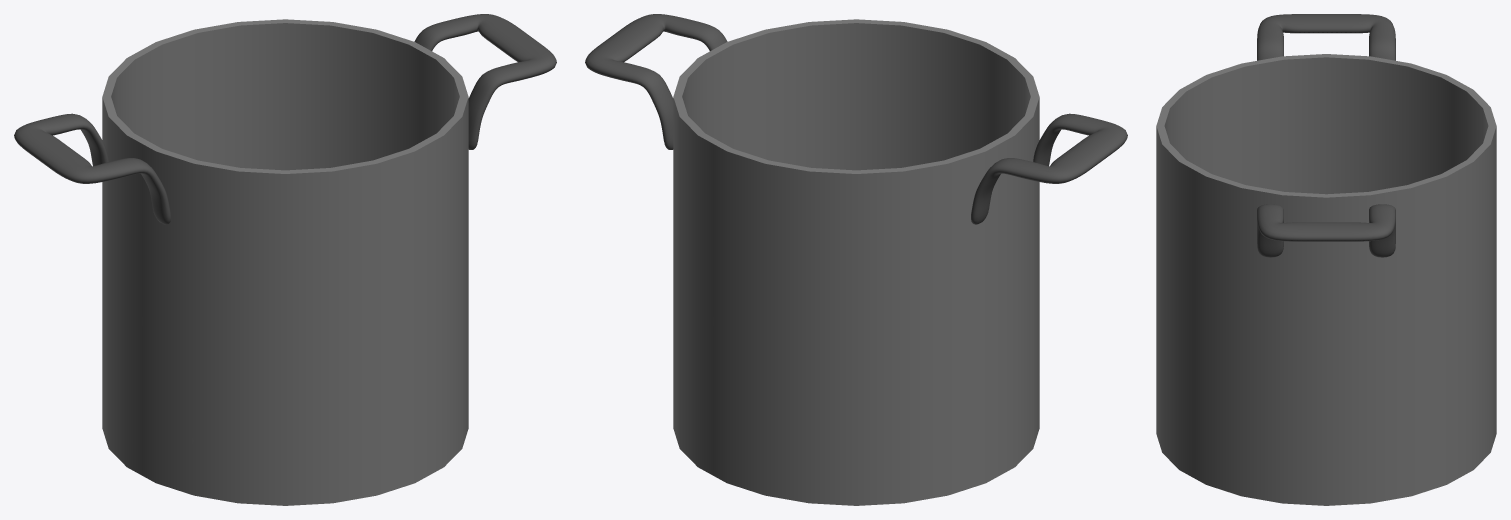
The model's file is pot.fbx.
3 views of the same model, side by side, from view 1: azimuth 30°, elevation 25°; view 2: azimuth 150°, elevation 25°; view 3: azimuth 270°, elevation 25° (orthographic). The views are drawn at different scales.
Parts seen in each view (by area): view 1: Cylinder; view 2: Cylinder; view 3: Cylinder.
Part boxes in pixels (left/top/right/bottom): Cylinder: left=14, top=14, right=556, bottom=505; Cylinder: left=585, top=14, right=1127, bottom=505; Cylinder: left=1156, top=14, right=1496, bottom=505.
Size of the model in its own units: 311 by 202 by 200.
